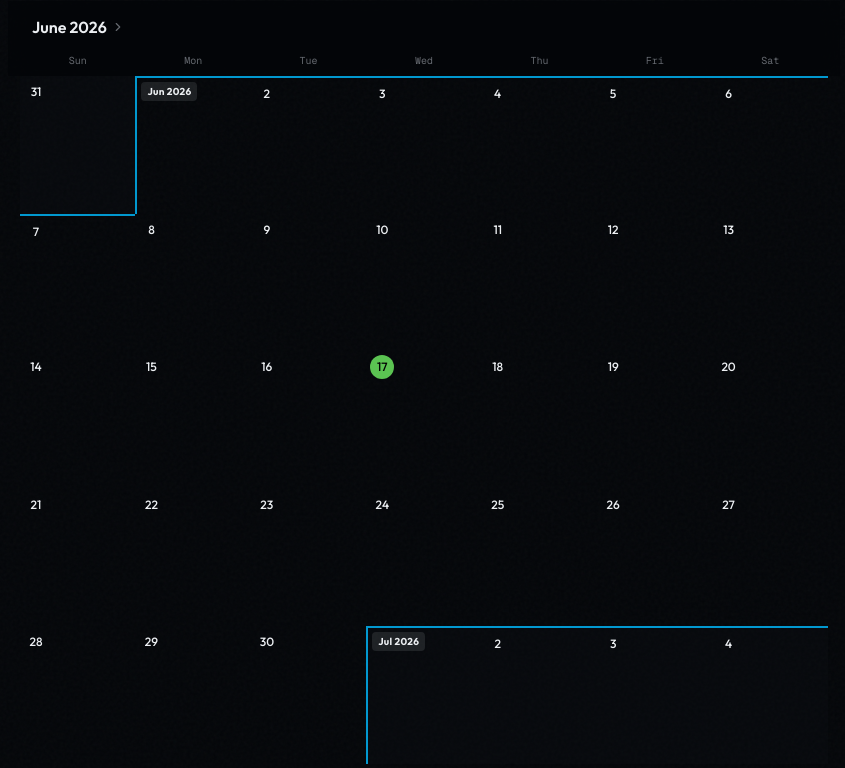
Scenario: VerticalCalendar quick-jump › steps the popover year forward
Click the button with test id "vcal-month-pill" at [78, 27], box [20, 9, 137, 45]
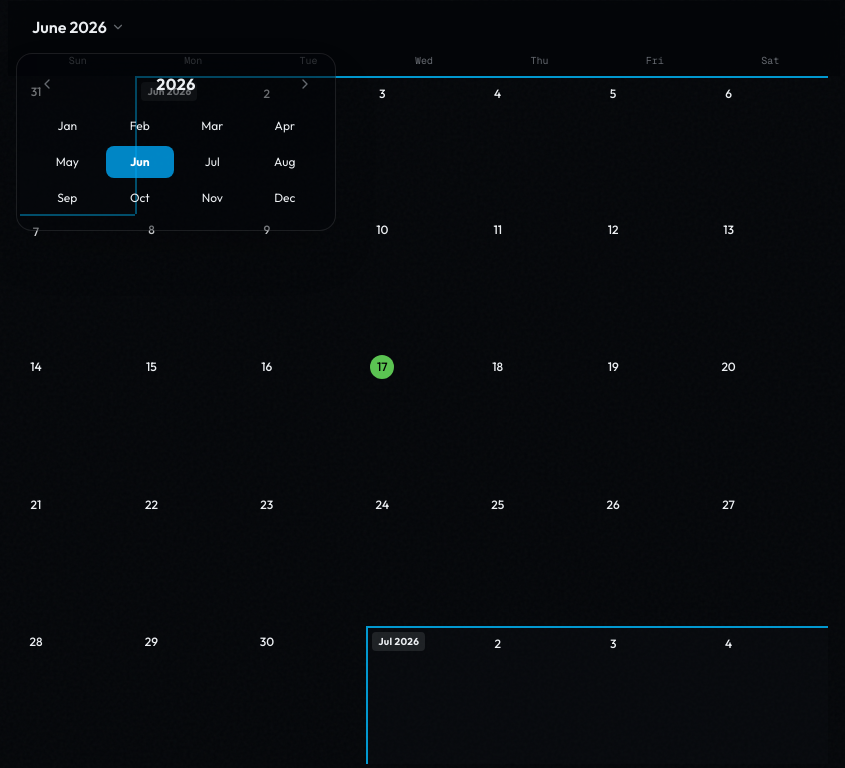
Expected: the text with test id "vcal-jump-year" reads "2026", [156, 74, 196, 94]
Click the button with test id "vcal-jump-year-next" at [305, 84], box [291, 70, 319, 98]
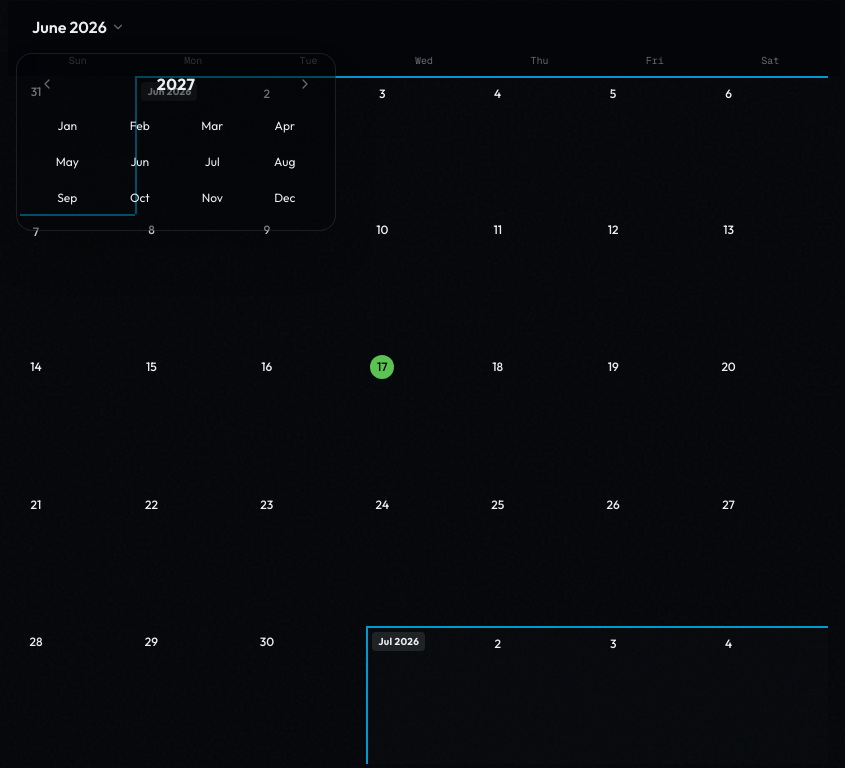
Expected: the text with test id "vcal-jump-year" reads "2027", [157, 74, 195, 94]
